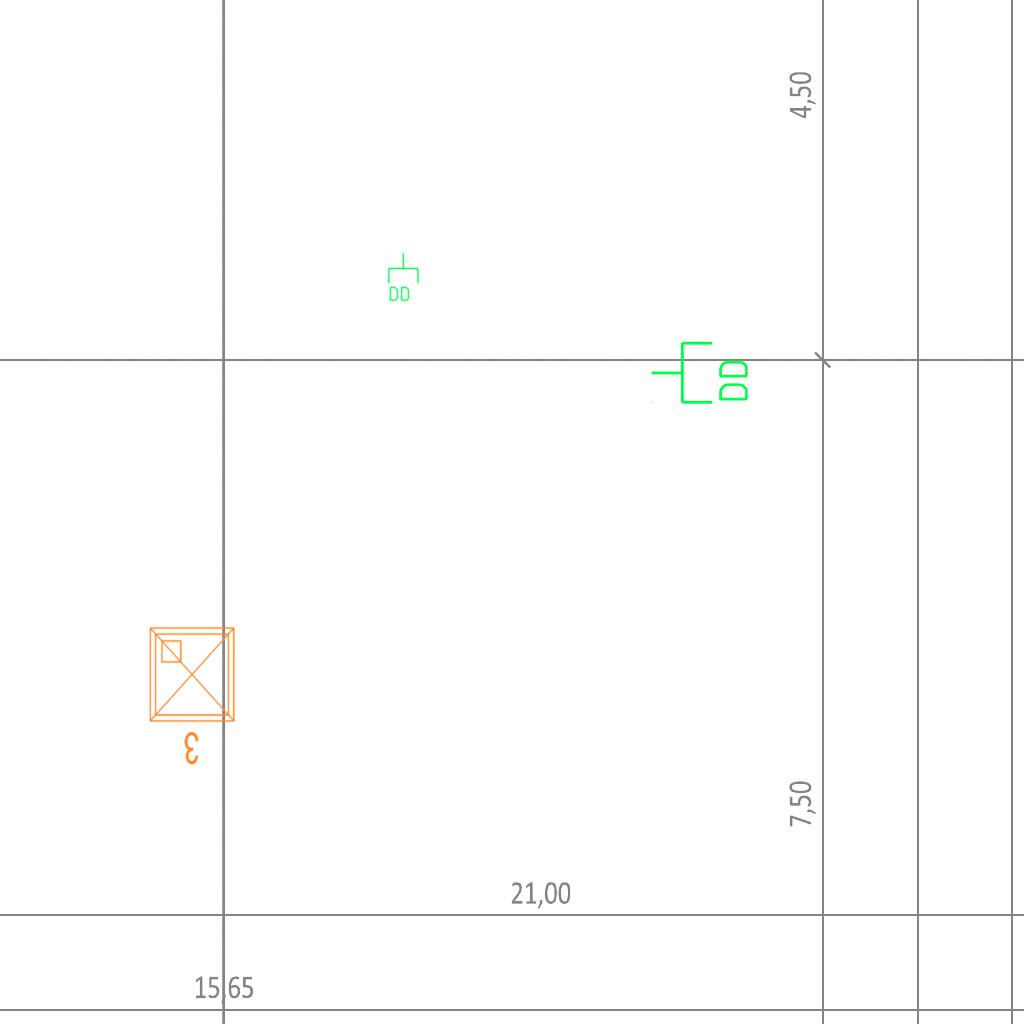Datenanschluss_zweifach: (649, 339, 752, 408), (386, 252, 420, 303)
Einbaudownlights_LED_Konferenzraeume: (142, 620, 246, 770)
